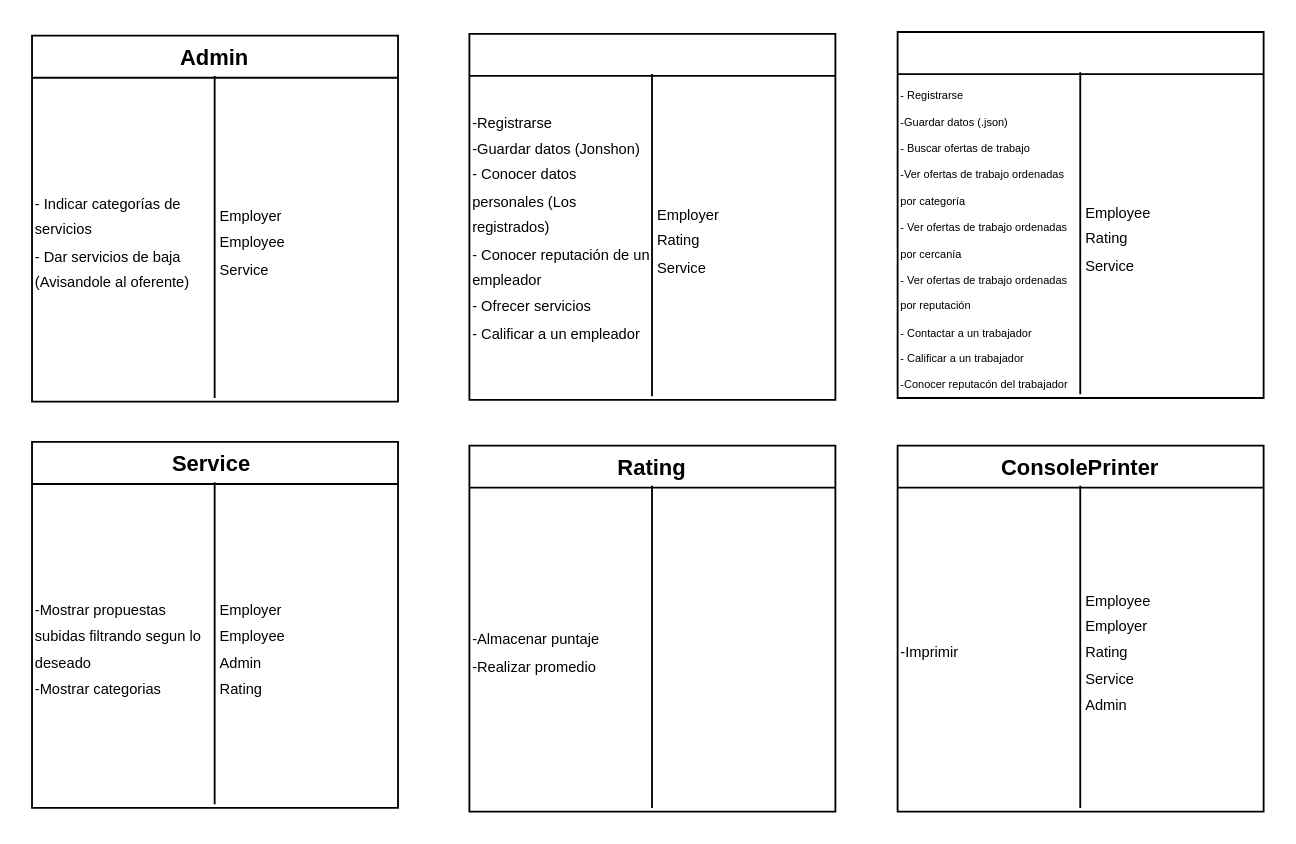
Some shapes in this 1296 by 844 pixel diagram are drawn without their labels. The box of each missing label's shape, as (x1, y1, x2, y2) in pixels:
Employee: (468, 32, 835, 400)
Employer: (896, 30, 1264, 398)
